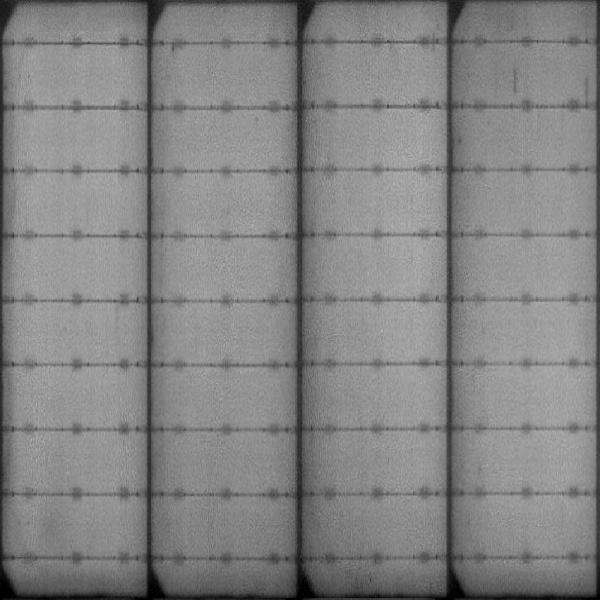scratch: (507, 58, 523, 97)
